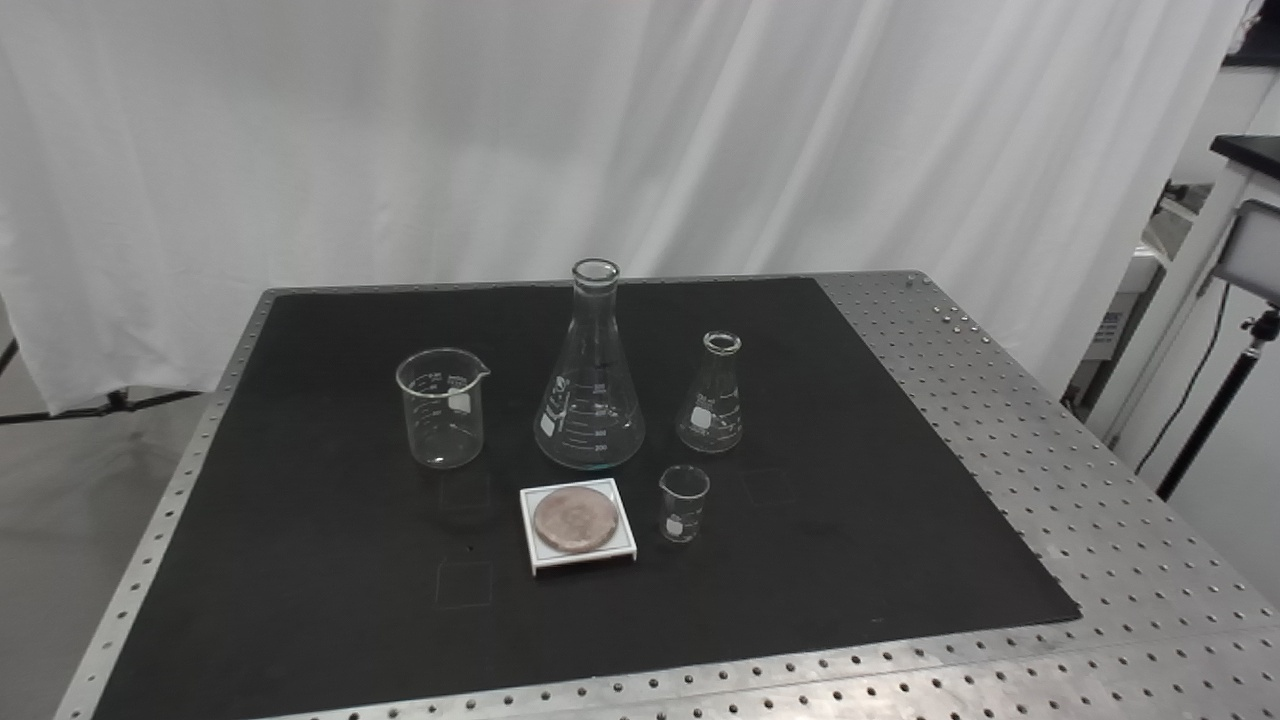glass: (531, 257, 651, 472), (393, 345, 495, 474), (676, 329, 747, 457), (653, 463, 710, 549)
plate: (517, 476, 640, 584)
